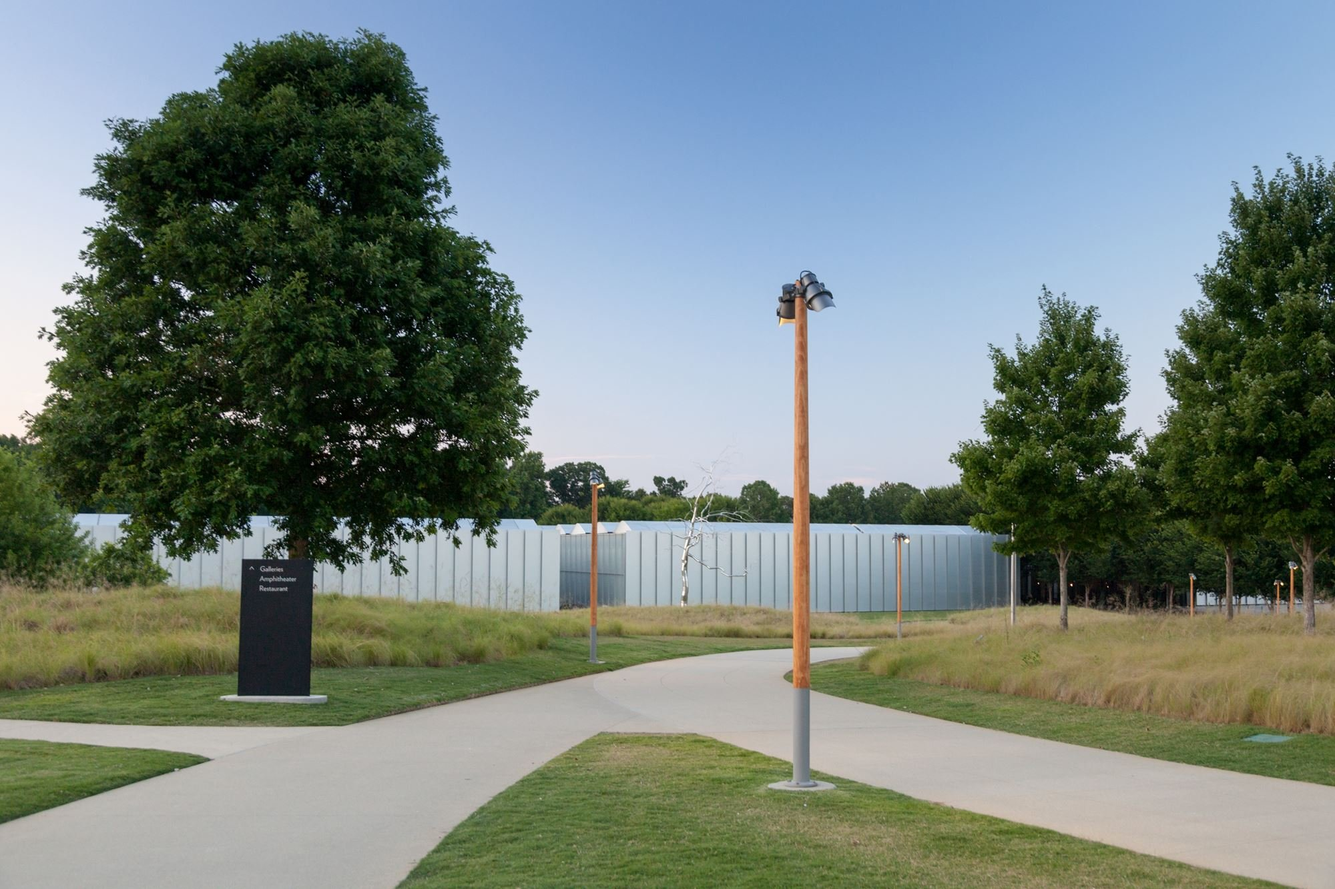light_pole: (784, 289, 828, 787), (583, 462, 607, 643)
